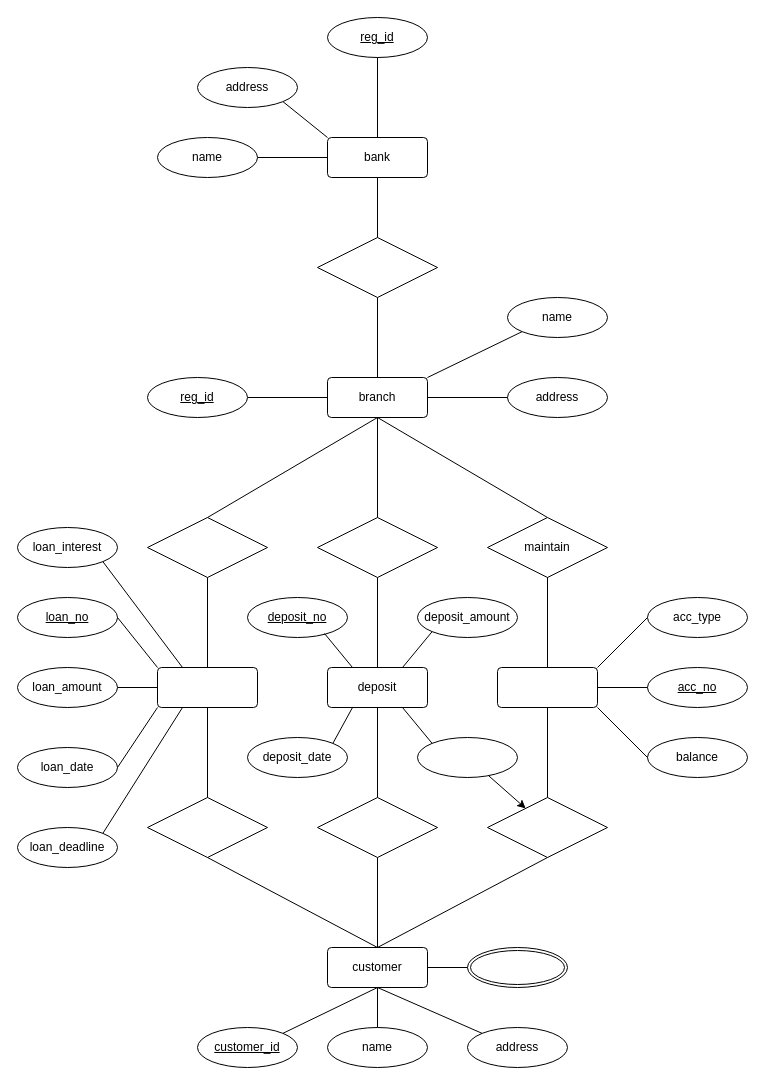
Image size: 765x1085. Some labels were removed from this diagram. The shapes that lost their labels are listed below. From the top down, each one's centre as x and y in pixels, then its label:
pixel 377 267: has
pixel 207 547: provides
pixel 377 547: allows
pixel 207 687: loan
pixel 547 687: account
pixel 467 757: deposit_type
pixel 207 827: taken_by
pixel 377 827: given_by
pixel 547 827: hold_by
pixel 517 967: phone
